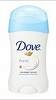grozi_45: (0, 0, 55, 100)
